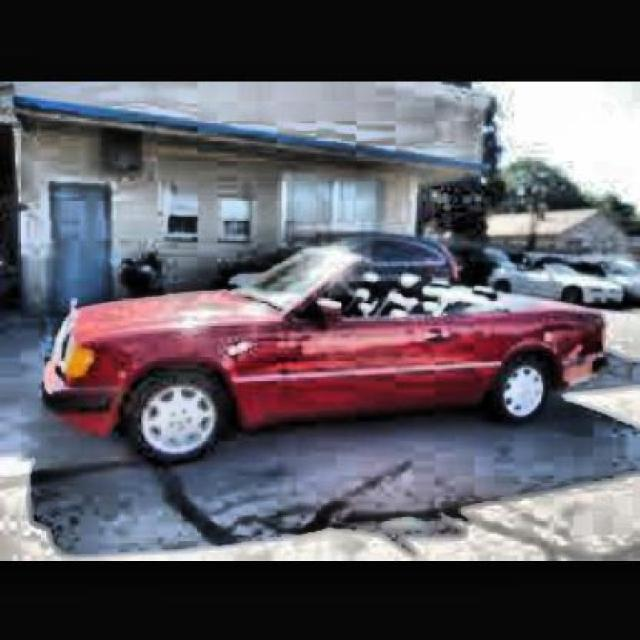red: (35, 244, 615, 413)
